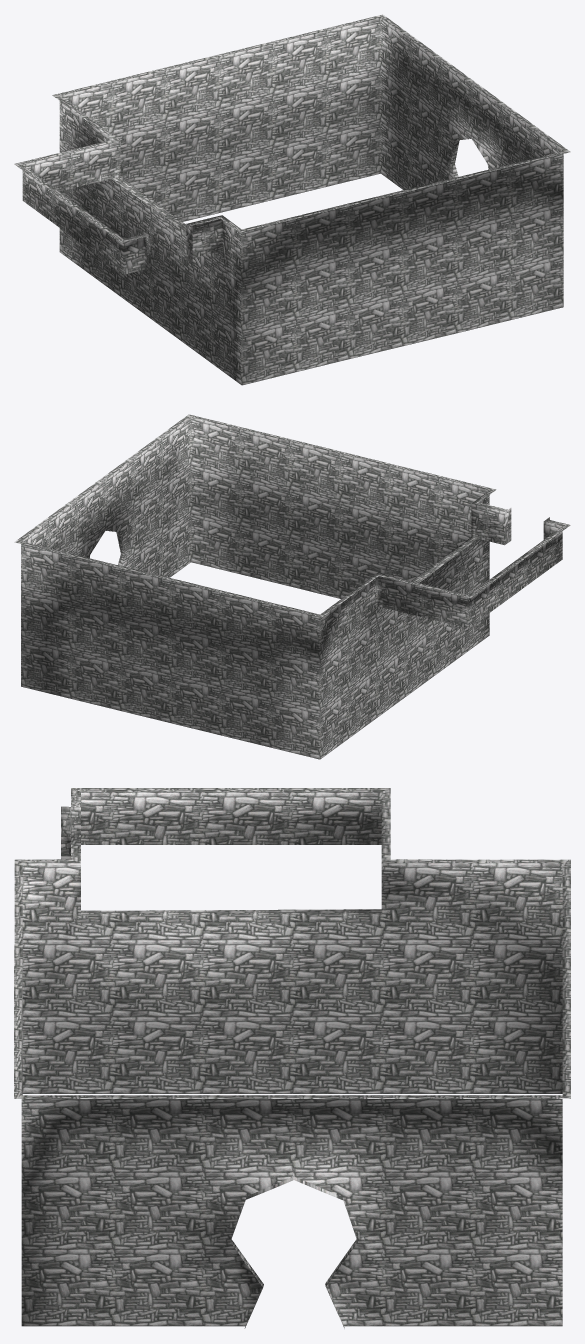
Rendered from HTOWN01_MILLBASEINT.fbx.
3 renders of one model, top to bottom at view 1: azimuth 30°, elevation 25°; view 2: azimuth 150°, elevation 25°; view 3: azimuth 270°, elevation 25°, orthographic. The views are drawn at different scales.
Visible parts, largest first — view 1: HTOWN01_MILLBASEINT; view 2: HTOWN01_MILLBASEINT; view 3: HTOWN01_MILLBASEINT.
Boxes of the visible parts, x1,y1,x2,y2 form: HTOWN01_MILLBASEINT: (14, 14, 570, 385); HTOWN01_MILLBASEINT: (14, 414, 570, 759); HTOWN01_MILLBASEINT: (14, 788, 570, 1328).
Bounding box in the file's own units: 169230 × 58653 × 128155.
1 material, 1 textured.
